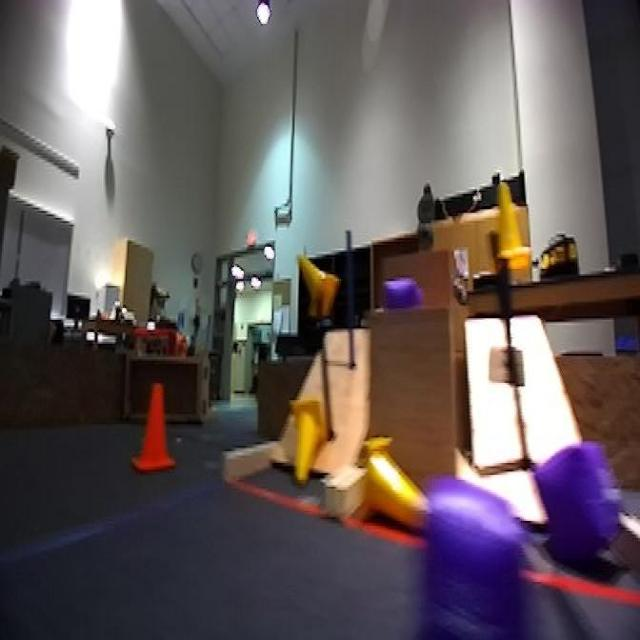frc_cone: (363, 439, 430, 535), (485, 175, 533, 279), (284, 395, 326, 487), (296, 248, 341, 318)
frc_cube: (423, 476, 560, 640), (554, 436, 630, 563), (377, 279, 424, 310)
